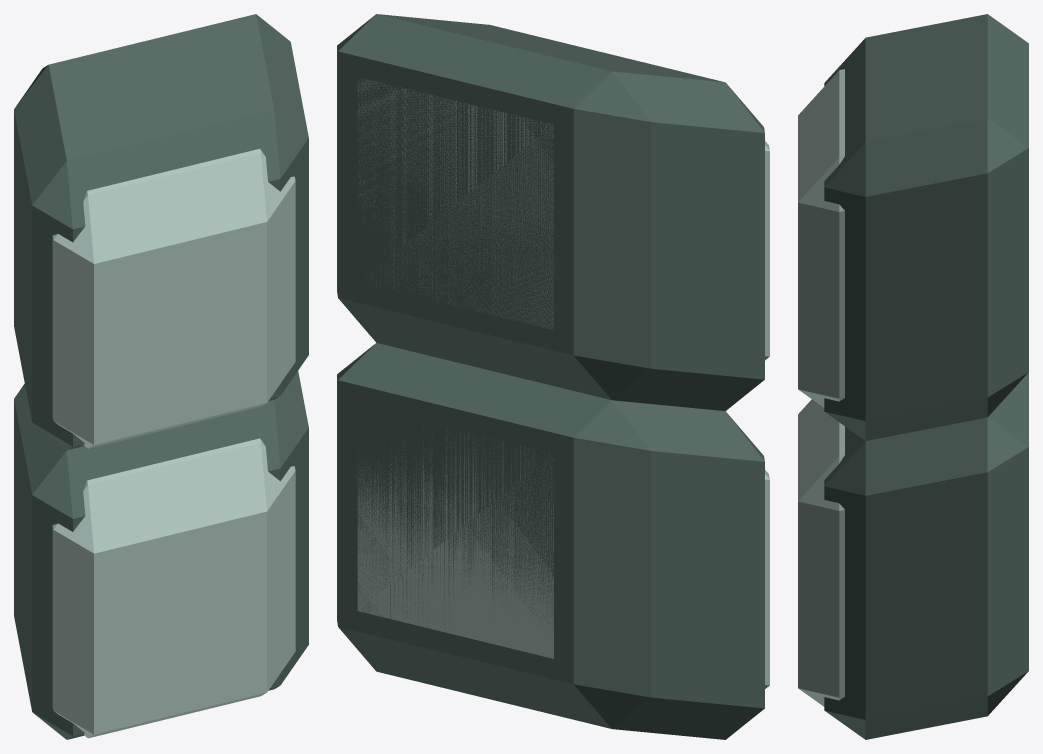
The model's file is Terrain_Block1x2.gltf.
3 renders of one model, left to right at view 1: azimuth 30°, elevation 25°; view 2: azimuth 150°, elevation 25°; view 3: azimuth 270°, elevation 25°, orthographic. The views are drawn at different scales.
Visible parts, largest first — view 1: Terrain_Block1x2_baked; view 2: Terrain_Block1x2_baked; view 3: Terrain_Block1x2_baked.
Part boxes in pixels (x1=…): Terrain_Block1x2_baked: x1=14, y1=14, x2=308, y2=739; Terrain_Block1x2_baked: x1=337, y1=14, x2=769, y2=739; Terrain_Block1x2_baked: x1=798, y1=14, x2=1028, y2=739.
Size of the model in its own units: 1.15 by 2.15 by 0.7.
